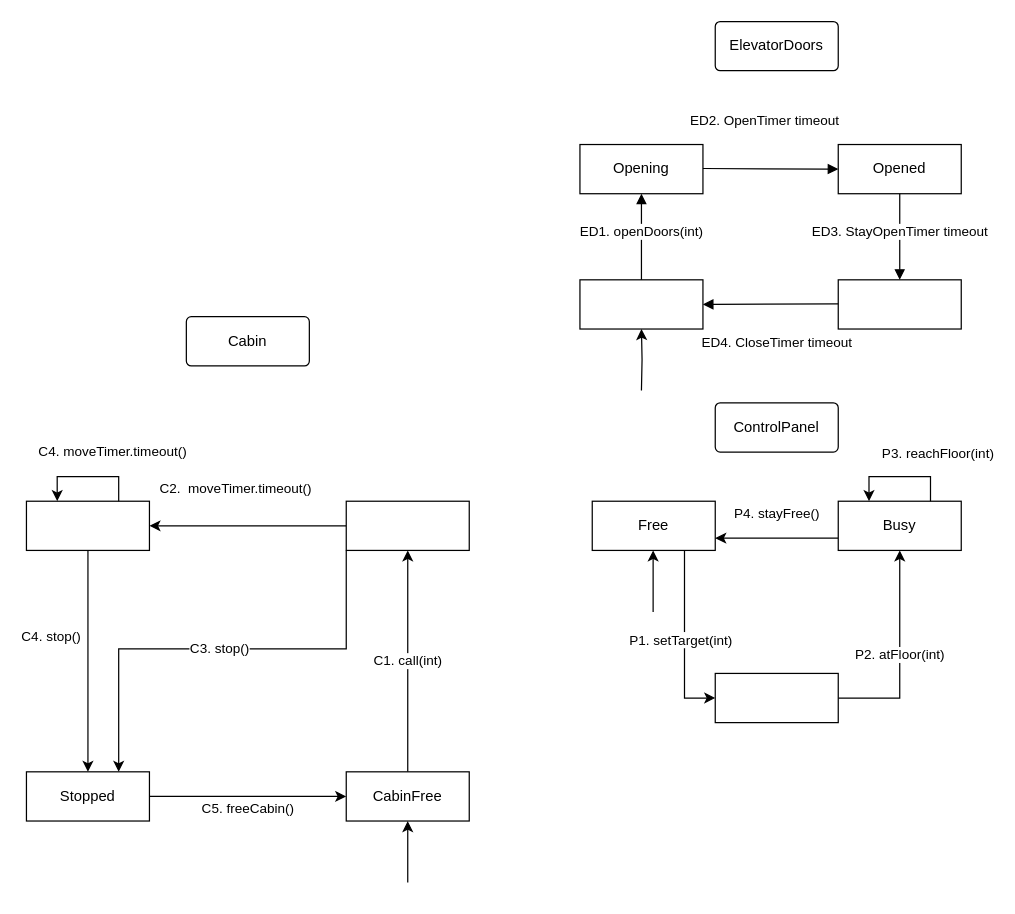
This 1015x914 diagram has some shape labels left out. Each missing label, with the centre of its shape:
"Closed" goes at point 641,304.
"Closing" goes at point 899,304.
"Moving" goes at point 87,525.
"New target" goes at point 776,697.
"setTarget" goes at point 407,525.
